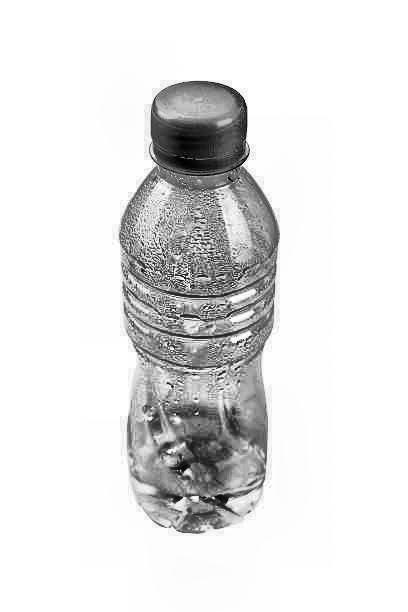waterbottle: (70, 59, 318, 556)
